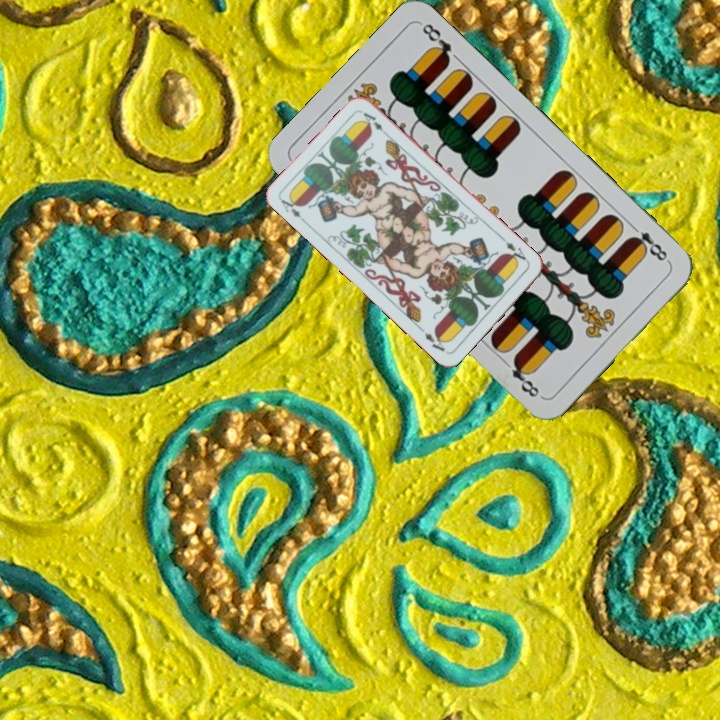E8: (625, 220, 672, 266)
EA: (498, 234, 532, 267), (277, 192, 310, 226)
